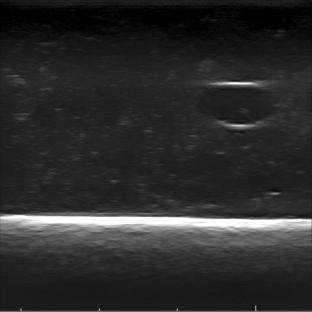vessel: (197, 81, 275, 130)
